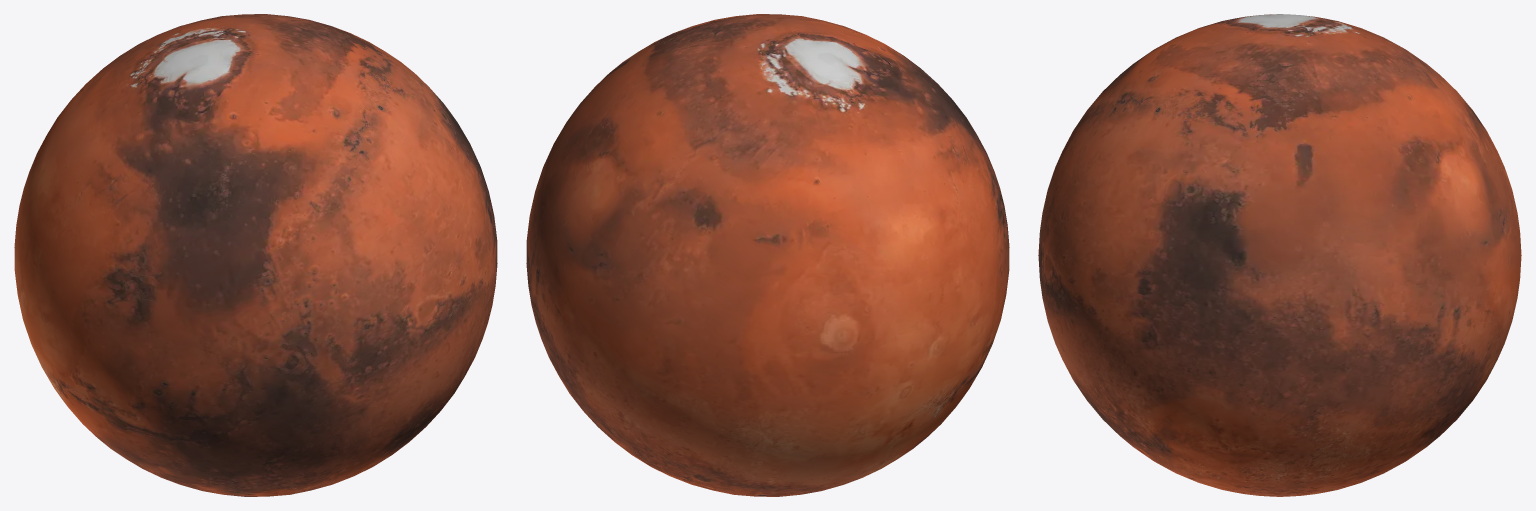
File: mars_out.glb
3 views of the same model, side by side, from view 1: azimuth 30°, elevation 25°; view 2: azimuth 150°, elevation 25°; view 3: azimuth 270°, elevation 25° (orthographic).
Parts seen in each view (by area): view 1: mars; view 2: mars; view 3: mars.
Boxes of the visible parts, x1,y1,x2,y2 form: mars: [14, 14, 497, 496]; mars: [526, 14, 1009, 496]; mars: [1038, 14, 1521, 496].
Size of the model in its own units: 99.89 by 99.91 by 100.
1 material, 1 textured.
